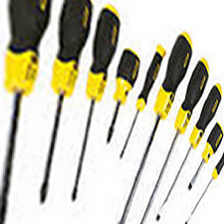Screwdriver: (9, 1, 224, 222)
